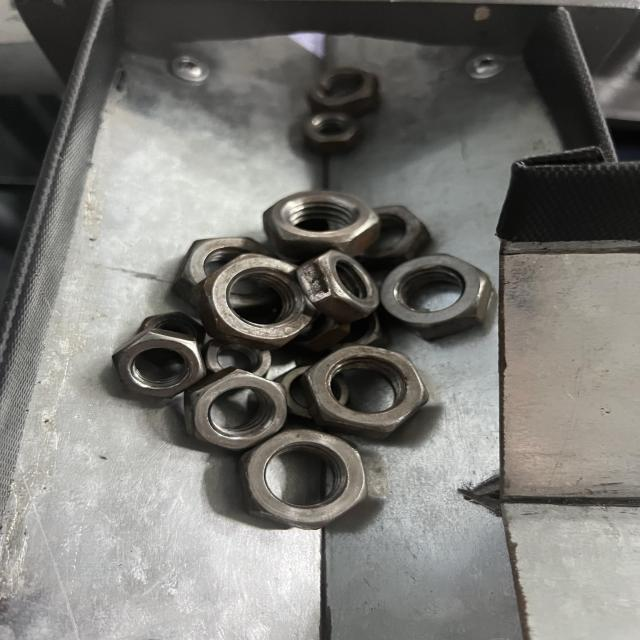nut: (238, 432, 369, 532), (309, 341, 436, 437), (202, 253, 313, 346), (110, 330, 206, 400)
